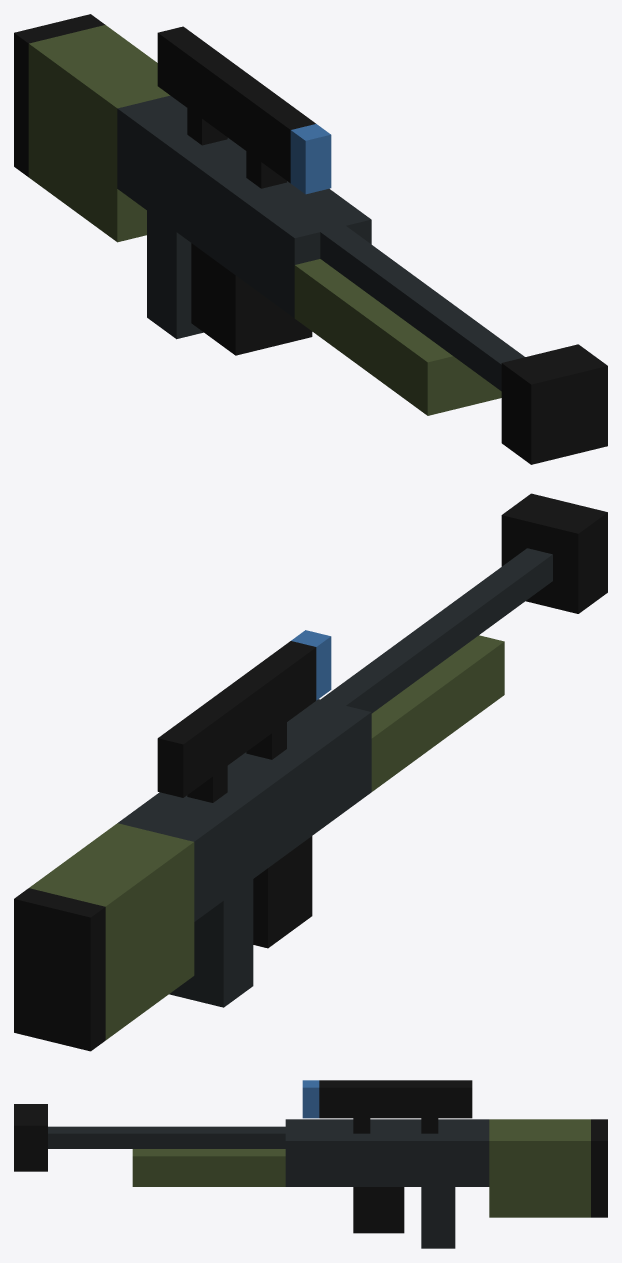
Rendered from vox_sniper.glb.
The picture shows the model from 3 angles, top to bottom: view 1: azimuth 30°, elevation 25°; view 2: azimuth 150°, elevation 25°; view 3: azimuth 270°, elevation 25°; orthographic projection. The views are drawn at different scales.
Visible parts, largest first — view 1: vox_sniper; view 2: vox_sniper; view 3: vox_sniper.
Boxes of the visible parts, x1,y1,x2,y2 form: vox_sniper: (14, 14, 607, 464); vox_sniper: (14, 493, 607, 1051); vox_sniper: (14, 1080, 607, 1248).
Size of the model in its own units: 0.06 by 0.2 by 0.7.
